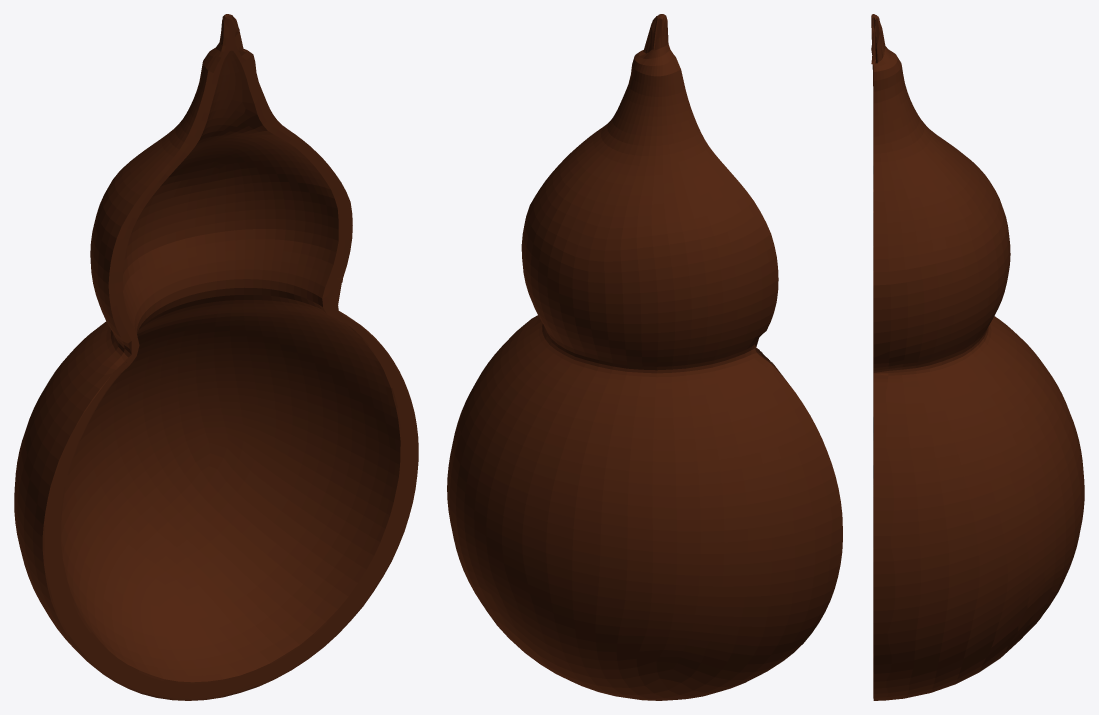
The model's file is uploads_files_3185467_21.fbx.
The picture shows the model from 3 angles, left to right: view 1: azimuth 30°, elevation 25°; view 2: azimuth 150°, elevation 25°; view 3: azimuth 270°, elevation 25°; orthographic projection. The views are drawn at different scales.
Parts seen in each view (by area): view 1: dfss; view 2: dfss; view 3: dfss.
Boxes of the visible parts, left/top/right/bottom form: dfss: left=14, top=14, right=418, bottom=700; dfss: left=447, top=14, right=842, bottom=700; dfss: left=871, top=14, right=1084, bottom=700.
Bounding box in the file's own units: 198 × 343 × 99.79.
